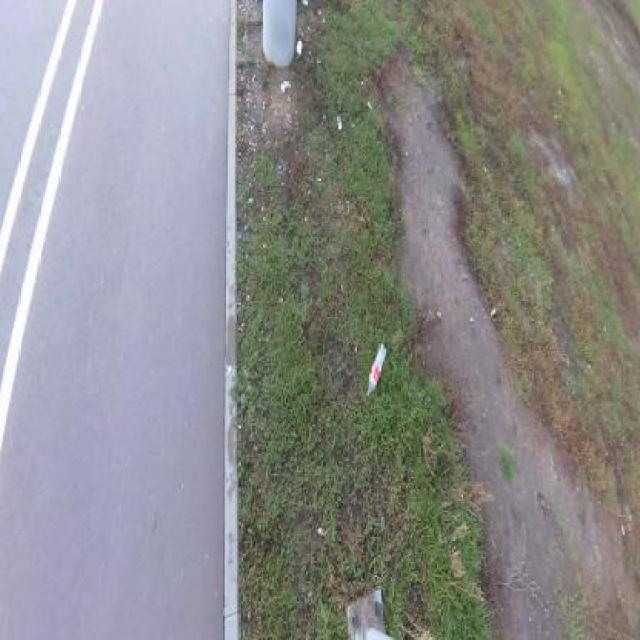Garbage: (367, 339, 387, 399), (295, 36, 302, 54), (280, 81, 291, 90), (337, 116, 344, 130)
